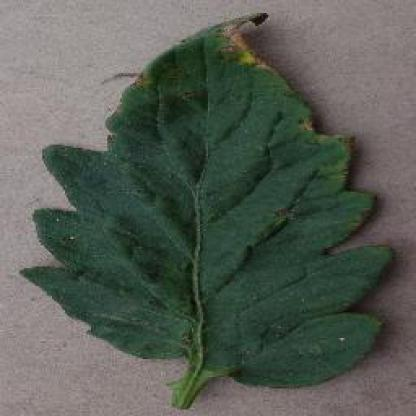bad leaf: (211, 10, 278, 72), (305, 113, 359, 154)
